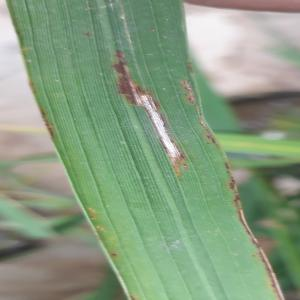Busuk Leher: (124, 66, 190, 174)
